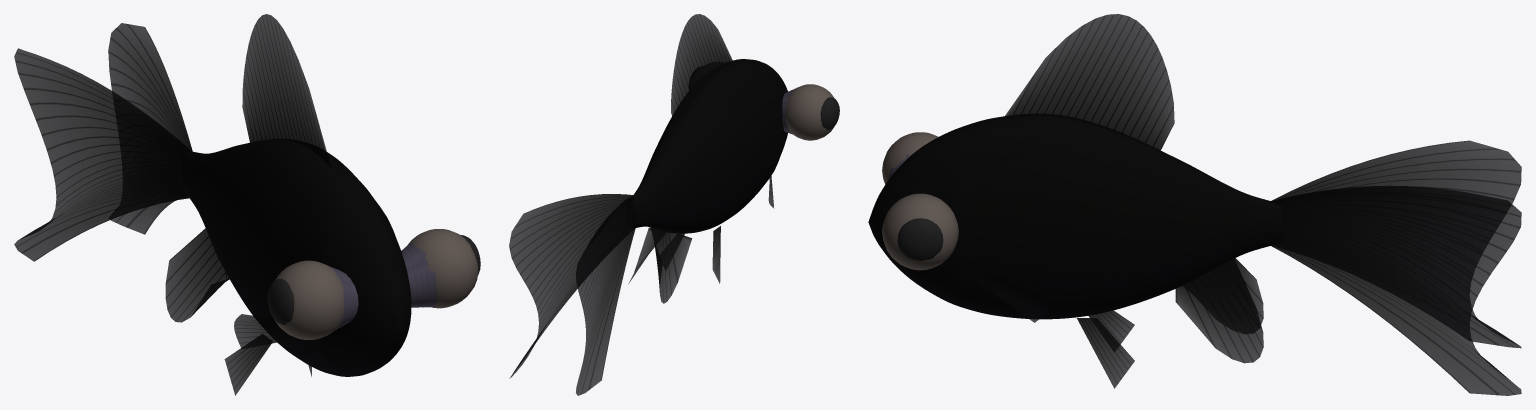
Rendered from demekin_1.glb.
The picture shows the model from 3 angles, left to right: view 1: azimuth 30°, elevation 25°; view 2: azimuth 150°, elevation 25°; view 3: azimuth 270°, elevation 25°; orthographic projection. The views are drawn at different scales.
Parts seen in each view (by area): view 1: fins, body, iris, stalk, pupil; view 2: fins, body, iris, pupil; view 3: fins, body, iris, pupil.
Part boxes in pixels (bbox=[...]): fins: bbox=[14, 14, 331, 395]; body: bbox=[178, 139, 411, 376]; iris: bbox=[274, 229, 478, 339]; stalk: bbox=[329, 242, 437, 329]; pupil: bbox=[267, 235, 480, 324]; fins: bbox=[509, 14, 774, 395]; body: bbox=[632, 59, 787, 233]; iris: bbox=[785, 84, 834, 140]; pupil: bbox=[691, 71, 839, 129]; fins: bbox=[978, 14, 1521, 395]; body: bbox=[868, 116, 1283, 319]; iris: bbox=[882, 132, 958, 270]; pupil: bbox=[897, 218, 943, 260].
Bounding box in the file's own units: 0.3293 × 0.5754 × 0.9528.
5 materials, 2 textured.
